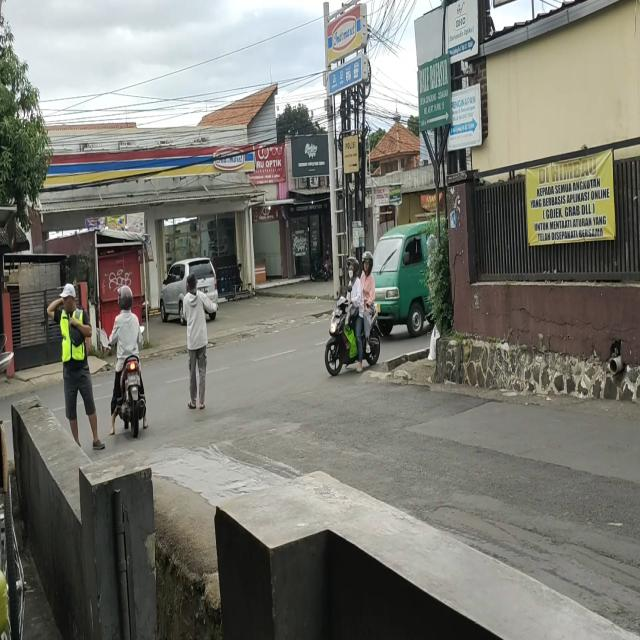helmet: (117, 284, 132, 308), (361, 251, 372, 277), (347, 257, 360, 277)
